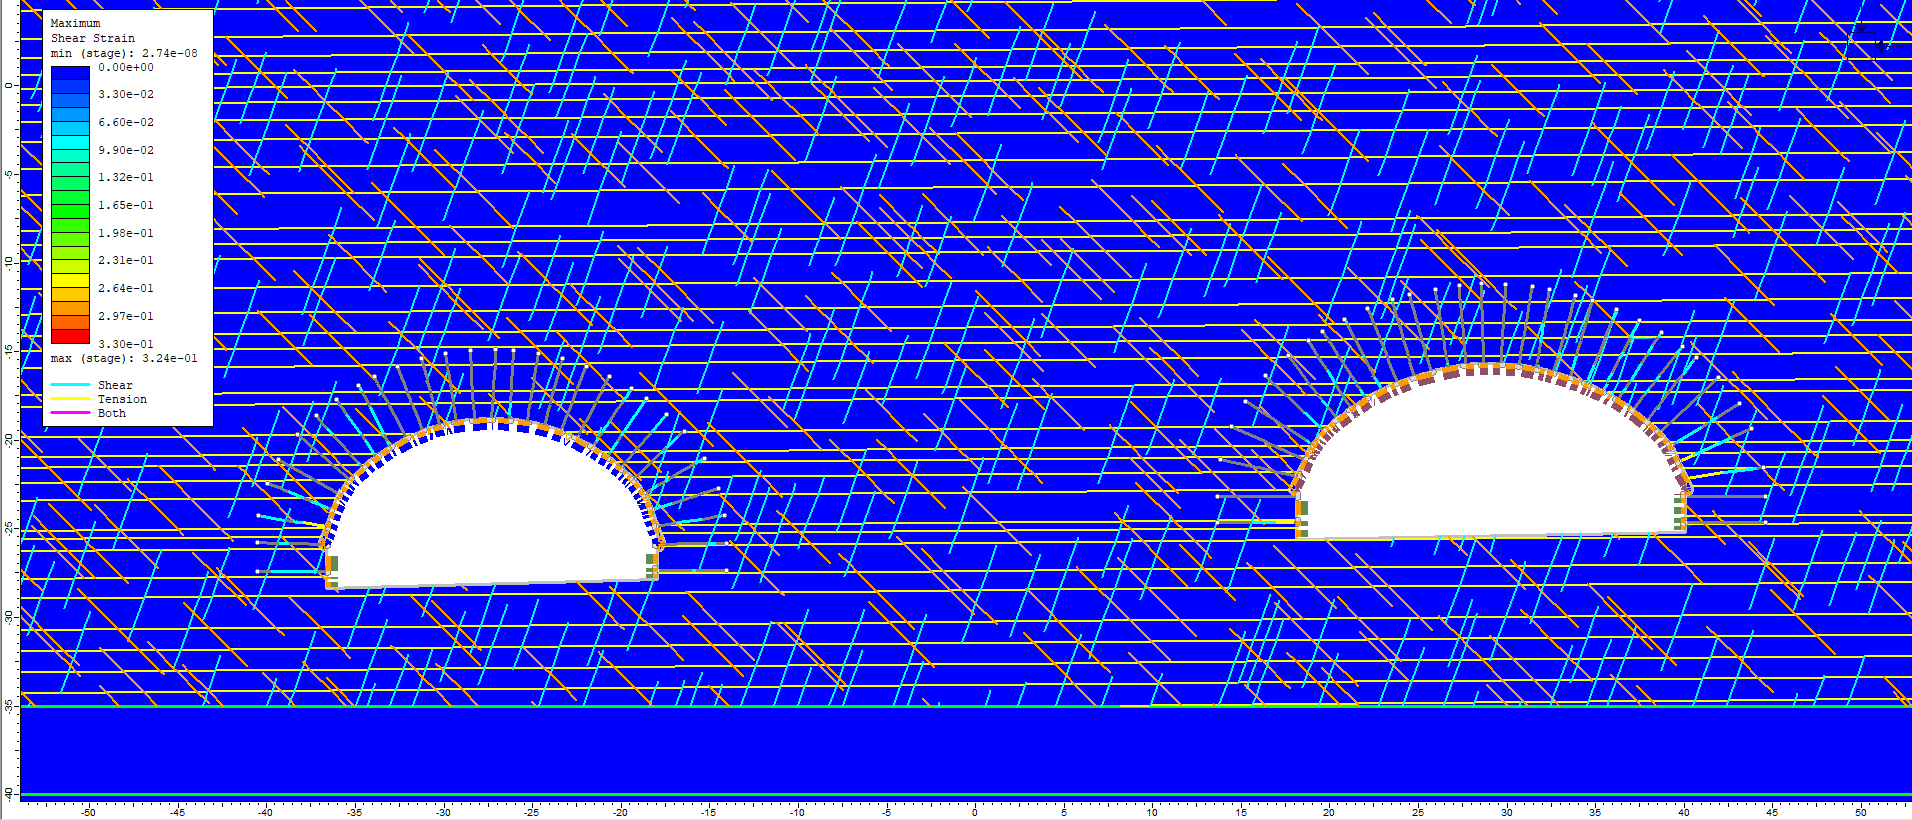crown: (433, 386, 563, 414), (1435, 332, 1552, 358)
label: (45, 11, 210, 425)
tunnel-opening: (1290, 360, 1694, 542), (321, 416, 665, 586)
